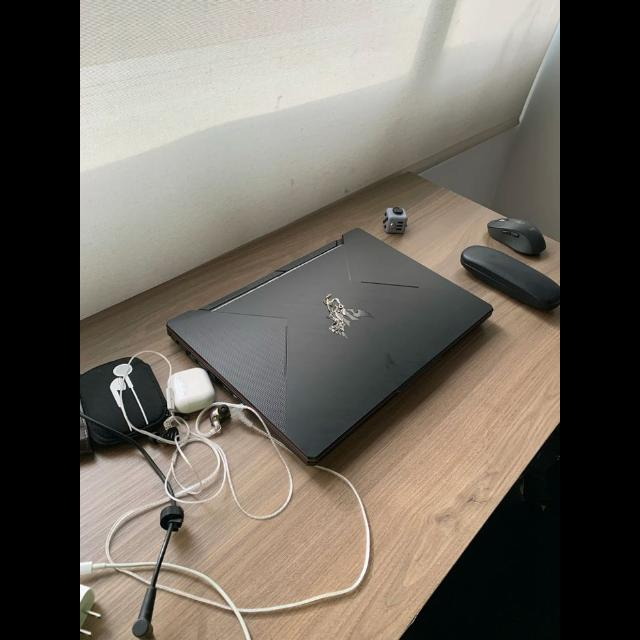laptop: (167, 229, 492, 464)
